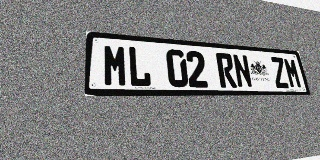0: (165, 49, 189, 87)
2: (185, 50, 208, 87)
L: (127, 46, 152, 87)
M: (103, 44, 128, 87), (283, 58, 303, 88)
N: (232, 54, 253, 88)
R: (215, 53, 237, 88)
Z: (270, 57, 290, 88)
